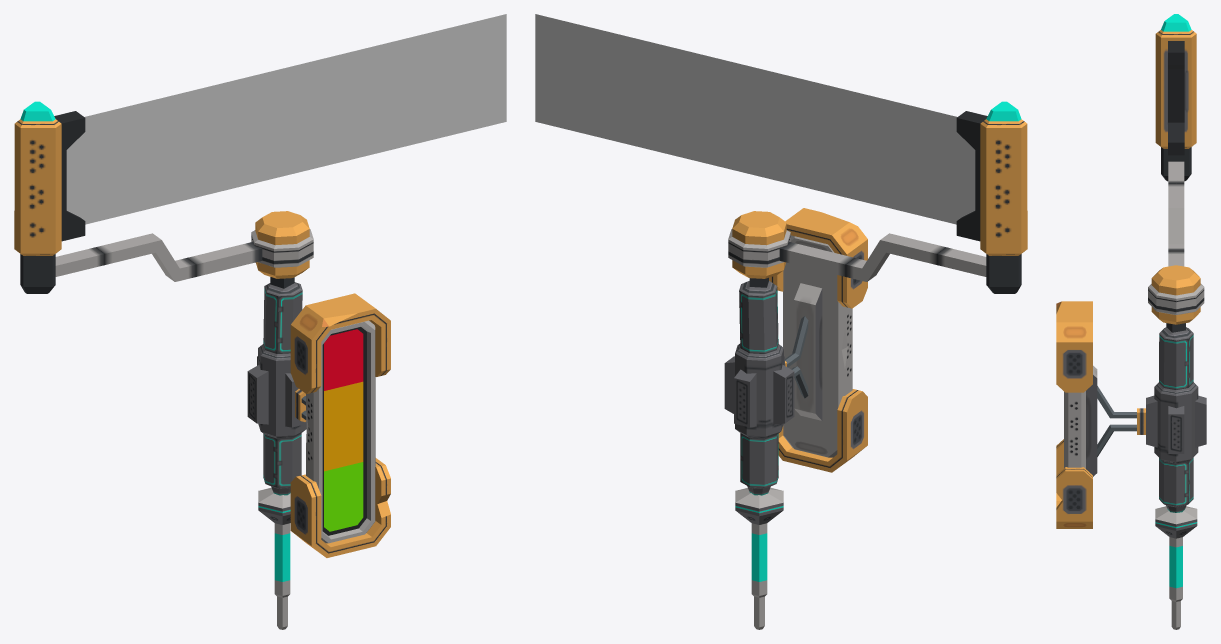
Rendered from SM_Prop_Traffic_Lights_03.fbx.
3 renders of one model, left to right at view 1: azimuth 30°, elevation 25°; view 2: azimuth 150°, elevation 25°; view 3: azimuth 270°, elevation 25°, orthographic. The views are drawn at different scales.
Visible parts, largest first — view 1: SM_Prop_Traffic_Lights_03, SM_Prop_Traffic_Lights_03_Screen_01; view 2: SM_Prop_Traffic_Lights_03, SM_Prop_Traffic_Lights_03_Screen_01; view 3: SM_Prop_Traffic_Lights_03.
Part boxes in pixels (x1,y1,x2,y2): SM_Prop_Traffic_Lights_03: (14, 101, 390, 629); SM_Prop_Traffic_Lights_03_Screen_01: (66, 14, 506, 224); SM_Prop_Traffic_Lights_03: (724, 101, 1027, 629); SM_Prop_Traffic_Lights_03_Screen_01: (535, 14, 975, 224); SM_Prop_Traffic_Lights_03: (1056, 14, 1206, 629).
Bounding box in the file's own units: 292 × 331 × 89.39.
